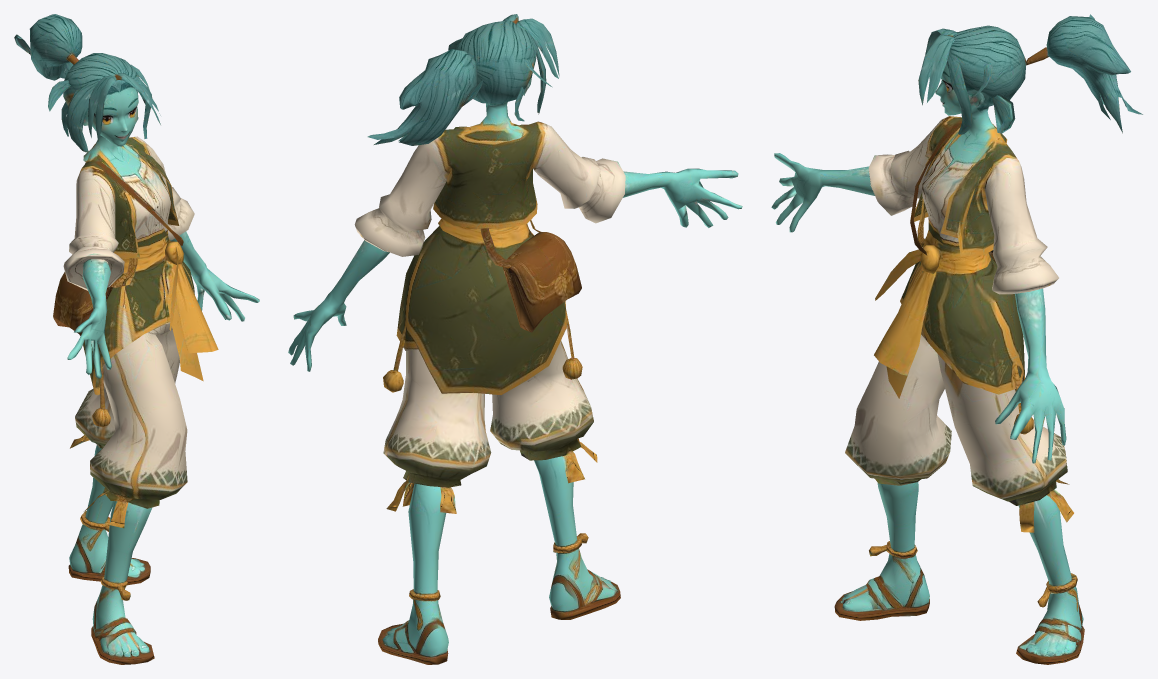
The model's file is marevyn.glb.
The picture shows the model from 3 angles, left to right: view 1: azimuth 30°, elevation 25°; view 2: azimuth 150°, elevation 25°; view 3: azimuth 270°, elevation 25°; orthographic projection. The views are drawn at different scales.
Bounding box in the file's own units: 1.12 × 2 × 1.11.
1 material, 1 textured.
